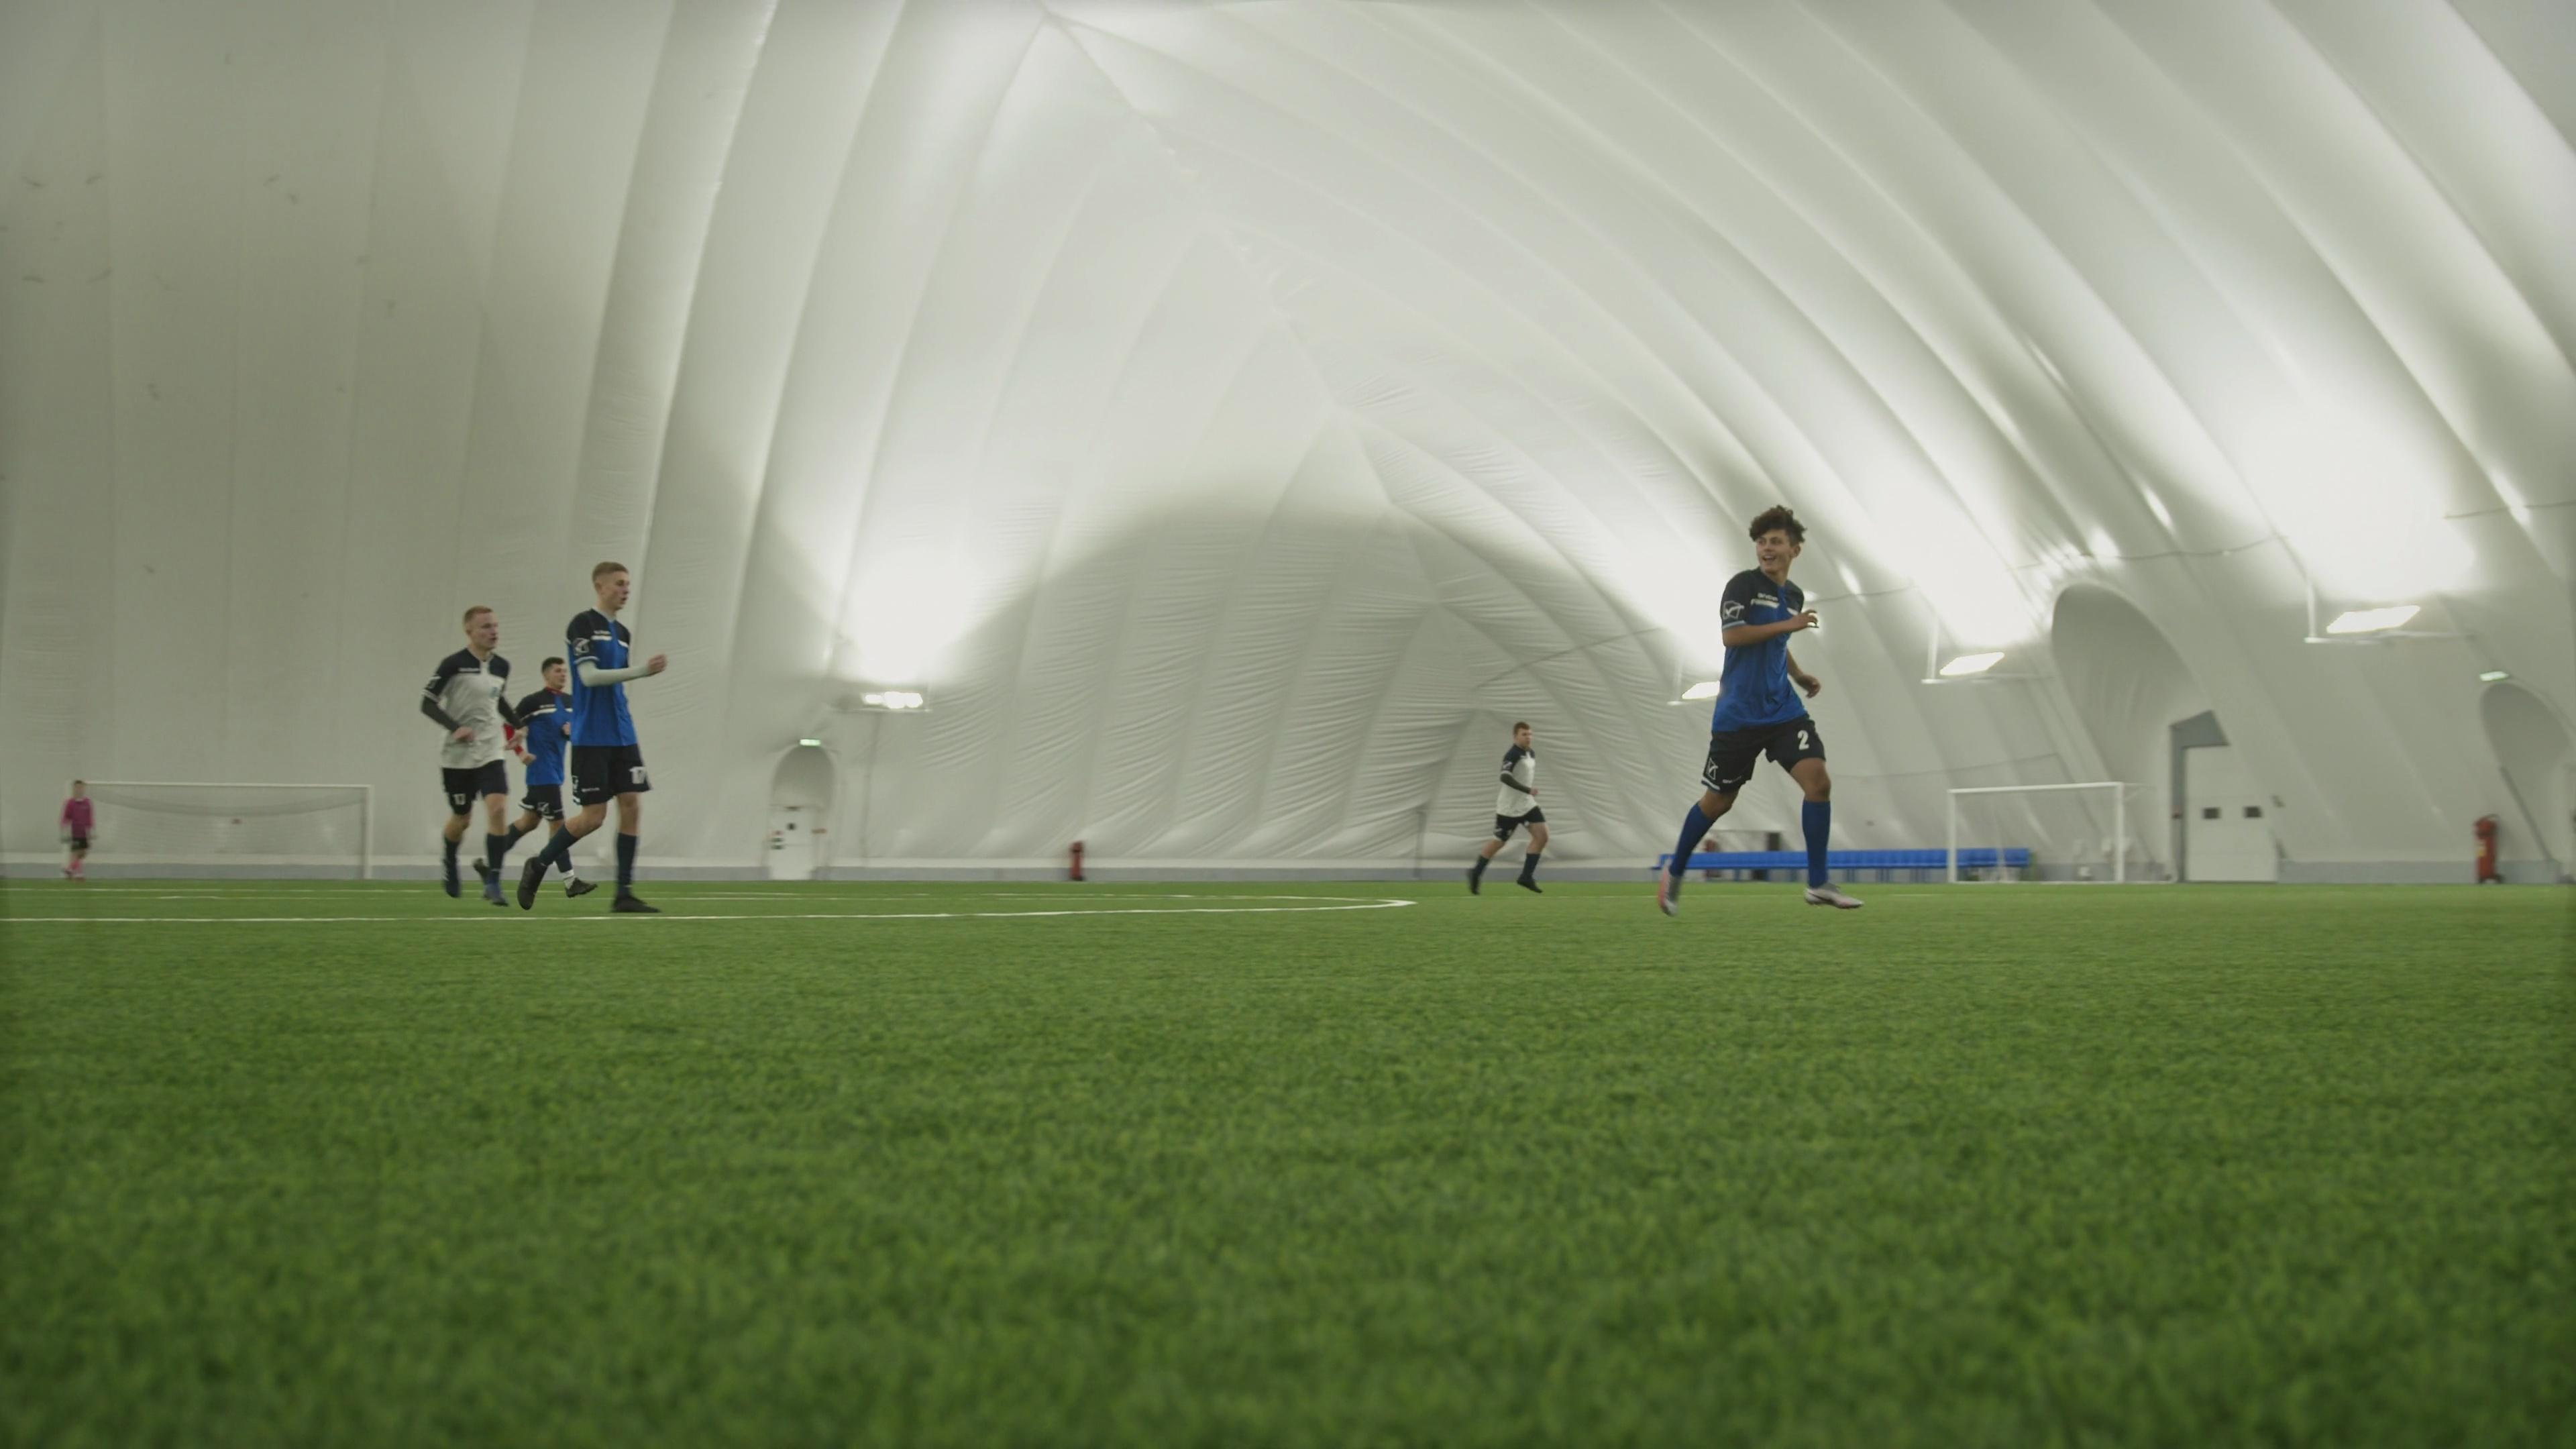team1: (1652, 506, 1851, 915), (499, 561, 669, 916), (510, 653, 582, 904)
team1gk: (58, 773, 97, 885)
team2: (419, 600, 534, 904), (1465, 722, 1552, 899)
